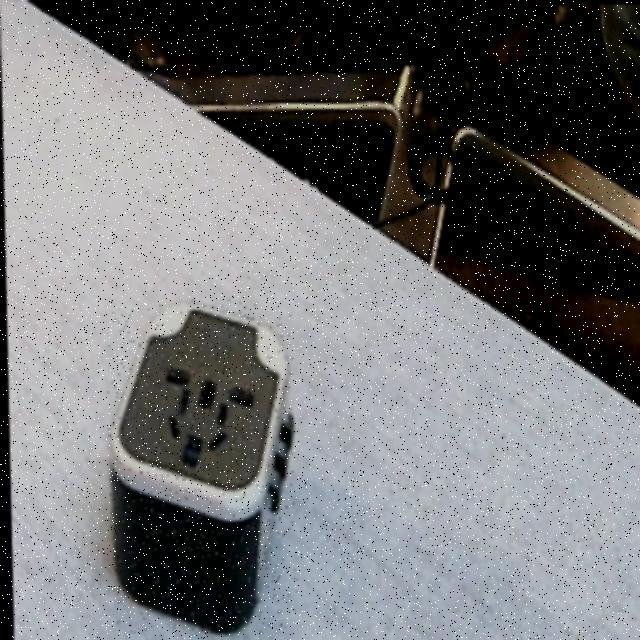adapter: (102, 299, 296, 634)
